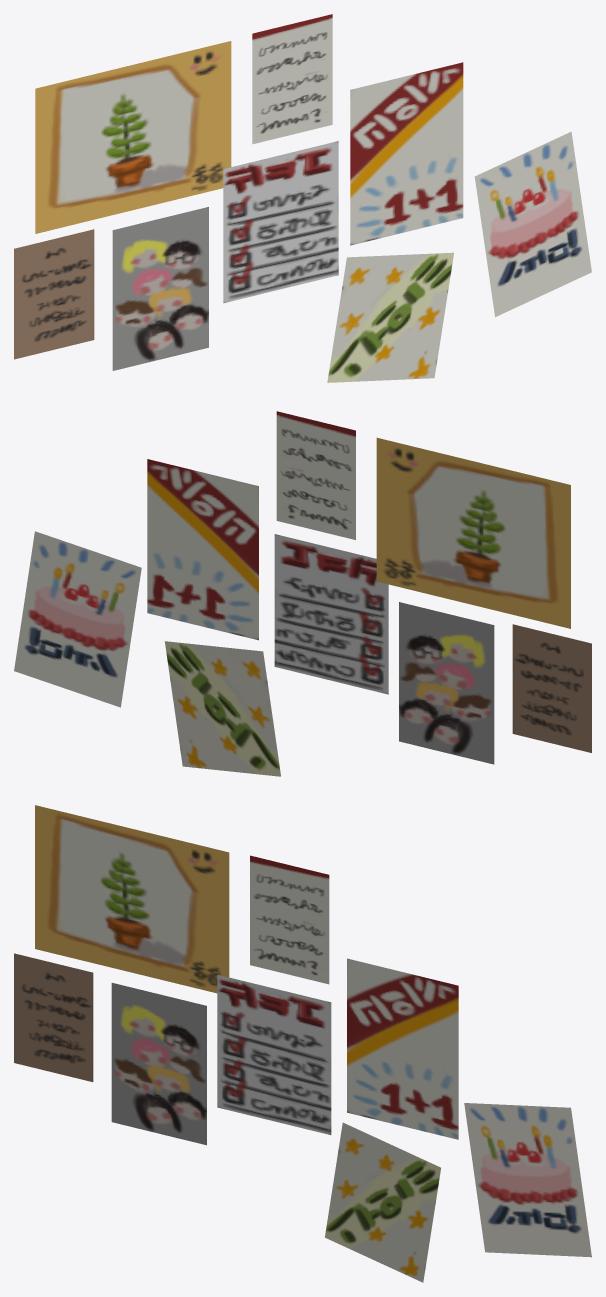
File: 76_prop_print.FBX
3 views of the same model, one above another, from view 1: azimuth 30°, elevation 25°; view 2: azimuth 150°, elevation 25°; view 3: azimuth 330°, elevation 25° (orthographic).
Visible parts, largest first — view 1: prop_print; view 2: prop_print; view 3: prop_print.
Boxes of the visible parts, bbox=[...] form: prop_print: bbox=[14, 14, 591, 382]; prop_print: bbox=[14, 411, 591, 776]; prop_print: bbox=[14, 805, 591, 1282].
Bounding box in the file's own units: 60.83 × 38.58 × 1.31.
